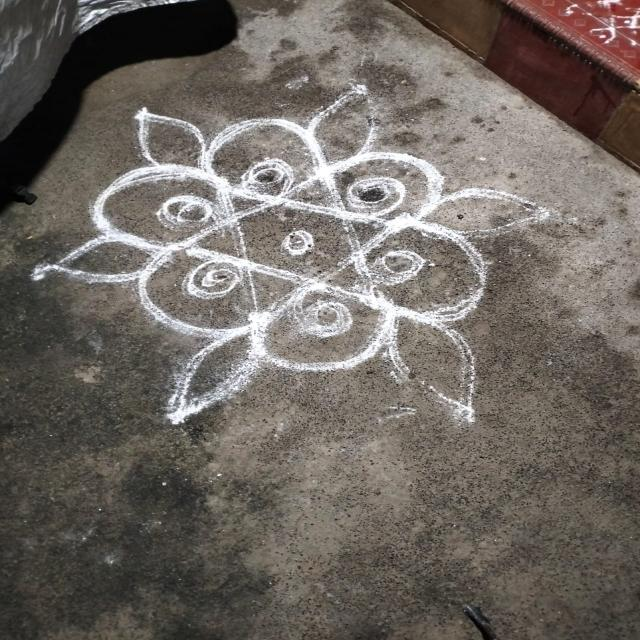rangoli: (24, 86, 545, 426)
